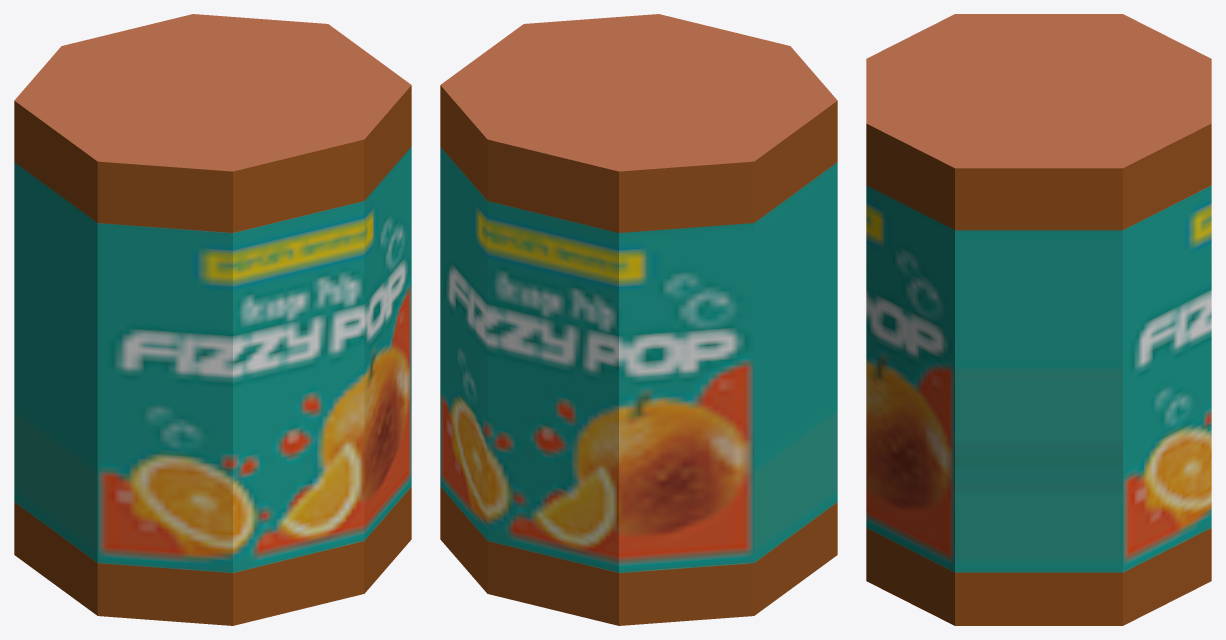
Rendered from can.glb.
The picture shows the model from 3 angles, left to right: view 1: azimuth 30°, elevation 25°; view 2: azimuth 150°, elevation 25°; view 3: azimuth 270°, elevation 25°; orthographic projection.
Visible parts, largest first — view 1: cubetest.019; view 2: cubetest.019; view 3: cubetest.019.
Part boxes in pixels (x1,y1,x2,y2): cubetest.019: [14, 14, 411, 625]; cubetest.019: [440, 14, 837, 625]; cubetest.019: [866, 14, 1211, 625].
Bounding box in the file's own units: 0.4685 × 0.6479 × 0.4431.
Materials: 1 (1 with a texture image).
